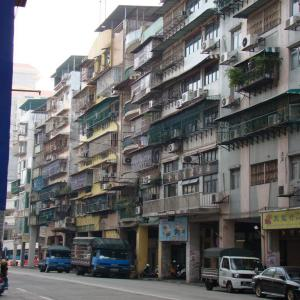Vehicle-registration-plate: (111, 270, 119, 272)
